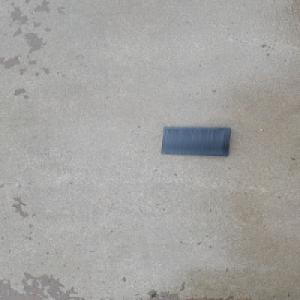PlasticPart: (159, 126, 232, 157)
